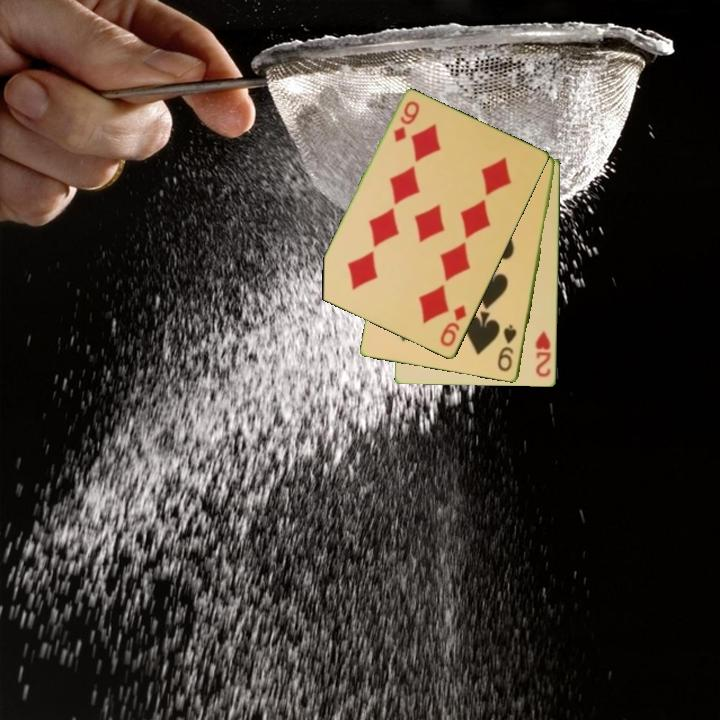2h: (532, 328, 554, 380)
9d: (436, 302, 470, 350), (390, 98, 423, 145)
9s: (494, 321, 520, 375)
